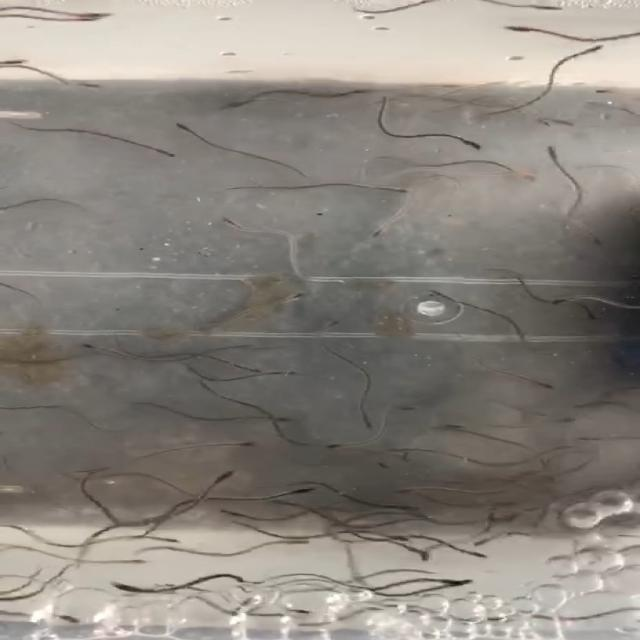active_glass_eel: (217, 93, 257, 111), (211, 213, 249, 231), (111, 550, 150, 567), (541, 144, 566, 170), (106, 579, 144, 594), (568, 44, 608, 58), (404, 546, 444, 560), (150, 142, 181, 160), (324, 437, 360, 452), (364, 221, 392, 240), (521, 0, 568, 11), (453, 136, 487, 151), (504, 22, 544, 34), (542, 294, 576, 308), (508, 169, 539, 184), (59, 78, 105, 88), (70, 8, 114, 18), (391, 488, 431, 499), (286, 486, 322, 498), (374, 184, 409, 196), (282, 538, 320, 549), (256, 413, 290, 425), (168, 118, 194, 133), (280, 287, 306, 302), (455, 547, 487, 559), (526, 380, 560, 391), (64, 15, 100, 25), (222, 439, 262, 448), (356, 415, 379, 430), (447, 578, 477, 589), (145, 534, 186, 542), (218, 466, 237, 483), (473, 535, 505, 545), (214, 507, 248, 516), (426, 574, 460, 583), (378, 456, 397, 472), (0, 55, 28, 65), (440, 422, 475, 430), (76, 341, 102, 351), (238, 362, 264, 372), (269, 370, 304, 377)
